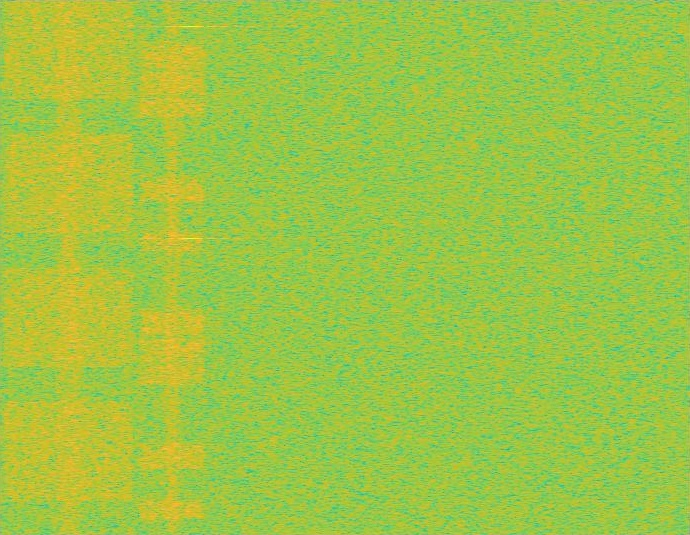5G: (0, 0, 138, 534)
DSSS: (53, 0, 85, 534), (165, 0, 180, 534)
LTE: (138, 0, 207, 534)
Radar: (184, 0, 198, 534)
